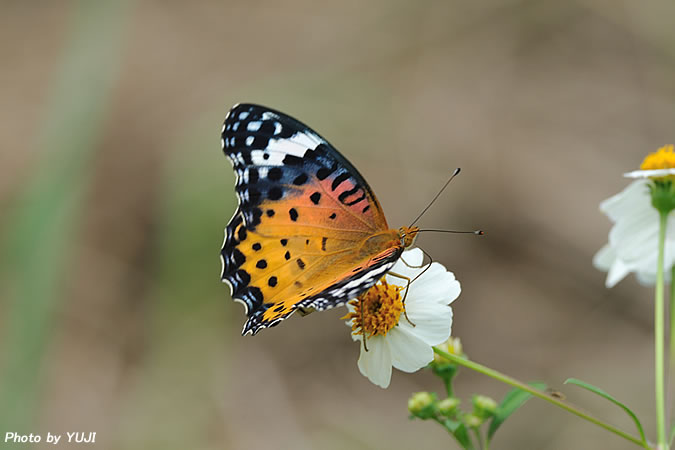Argyreus hyperbius: (213, 93, 487, 353)
butterfly: (215, 95, 489, 355)
